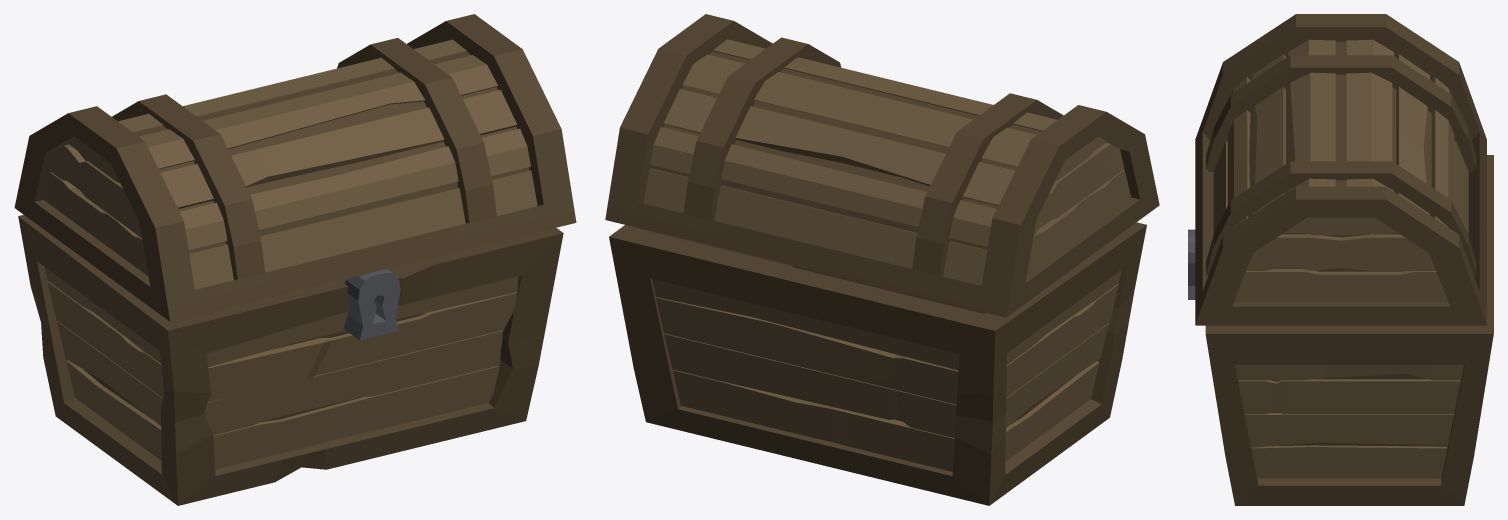
The model's file is Ruins_Chest.obj.
The picture shows the model from 3 angles, left to right: view 1: azimuth 30°, elevation 25°; view 2: azimuth 150°, elevation 25°; view 3: azimuth 270°, elevation 25°; orthographic projection. The views are drawn at different scales.
Parts seen in each view (by area): view 1: DarkWood, Wood, Metal; view 2: DarkWood, Wood; view 3: DarkWood, Wood, Metal.
Part boxes in pixels (<box>): DarkWood: <box>14,14,576,505</box>; Wood: <box>43,39,537,469</box>; Metal: <box>343,269,400,340</box>; DarkWood: <box>605,14,1159,505</box>; Wood: <box>643,39,1130,471</box>; DarkWood: <box>1195,14,1493,505</box>; Wood: <box>1213,39,1468,478</box>; Metal: <box>1188,229,1195,299</box>.
Size of the model in its own units: 1.18 by 0.9456 by 0.8199.
